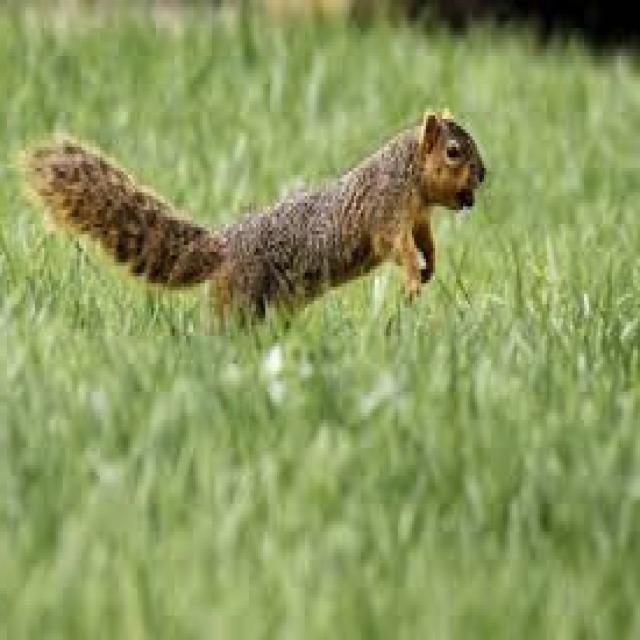squirrel: (28, 112, 486, 315)
